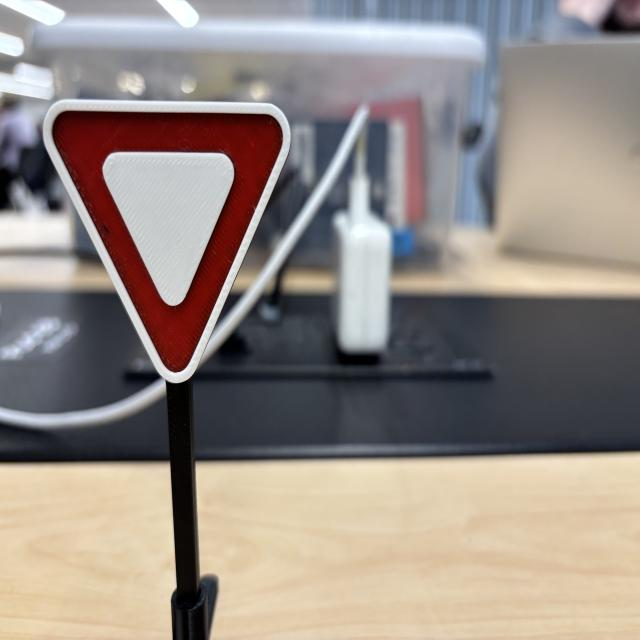sign_yield: (44, 101, 294, 385)
